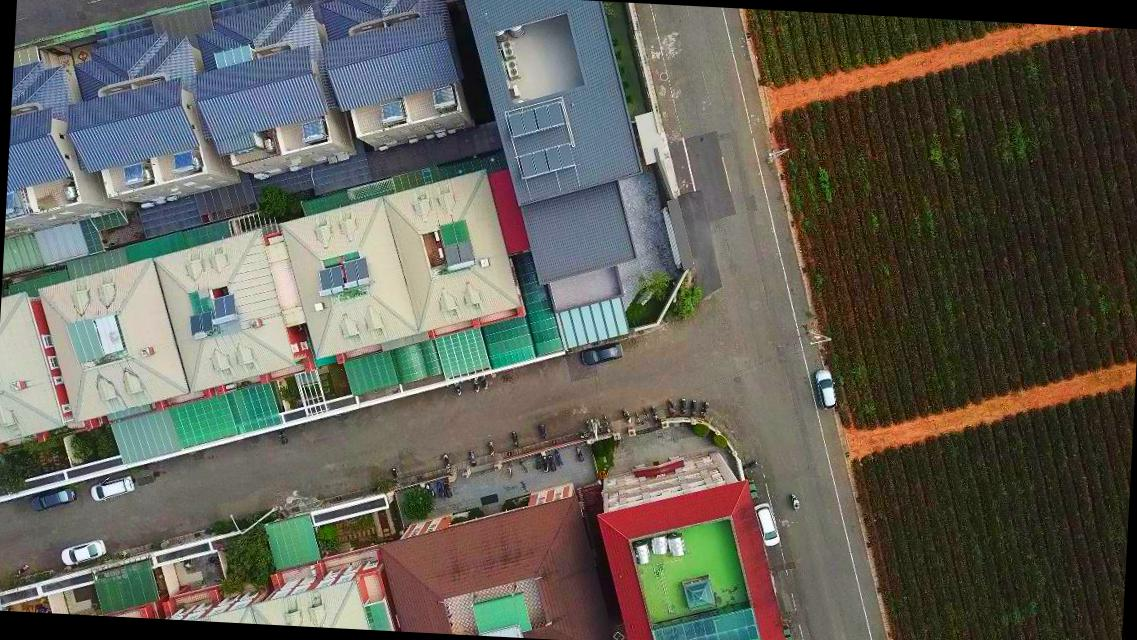vehicle: (59, 538, 108, 568), (750, 501, 780, 546), (29, 485, 75, 513), (88, 476, 134, 504), (578, 339, 622, 366), (810, 369, 837, 412)
